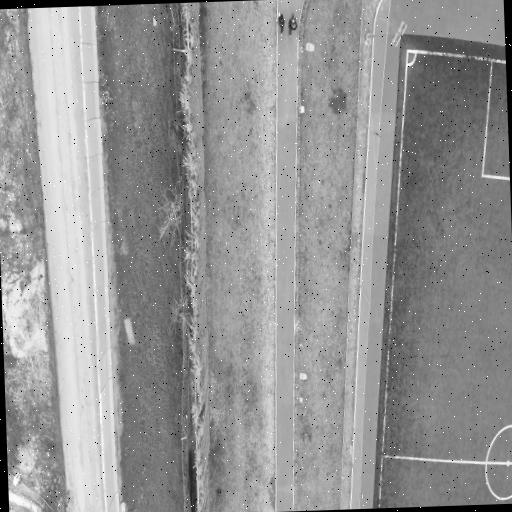person: (289, 14, 297, 34), (278, 13, 284, 35)
